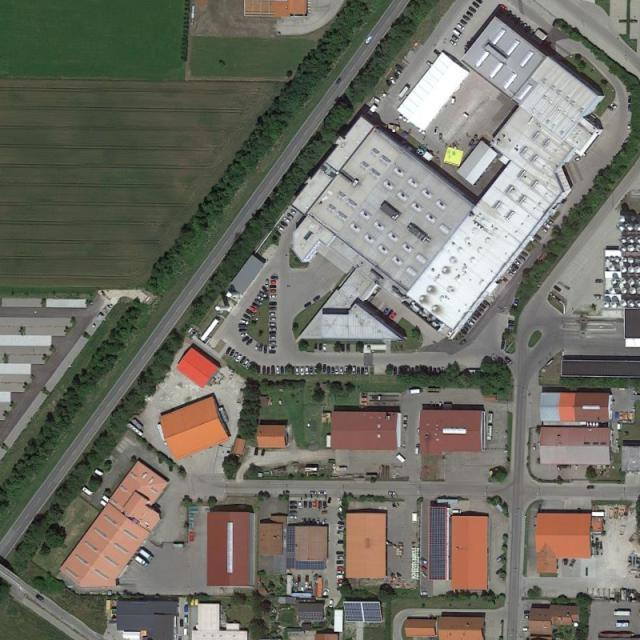vehicle: (201, 316, 222, 342), (157, 423, 168, 446), (134, 555, 150, 569), (138, 548, 154, 562), (218, 406, 230, 423), (81, 486, 94, 497), (495, 553, 506, 563), (94, 469, 106, 478), (452, 29, 464, 38), (364, 35, 374, 45), (36, 594, 46, 603), (609, 102, 620, 110), (246, 309, 255, 318), (505, 356, 514, 365), (506, 270, 516, 278), (419, 557, 429, 565), (258, 290, 268, 298), (456, 23, 466, 31), (235, 354, 243, 363), (420, 570, 428, 579), (420, 565, 429, 573), (553, 285, 562, 293), (468, 6, 477, 14), (471, 1, 480, 9), (256, 294, 265, 302), (254, 298, 263, 306), (462, 14, 471, 22), (395, 64, 404, 72), (240, 355, 247, 365), (242, 313, 252, 320), (463, 323, 473, 330), (242, 359, 250, 367), (246, 362, 254, 370), (337, 513, 345, 521), (477, 306, 485, 314), (534, 233, 542, 241), (334, 78, 342, 86), (262, 286, 270, 294), (426, 60, 434, 68), (546, 218, 554, 226), (540, 226, 548, 234), (452, 34, 460, 42), (434, 49, 442, 57), (509, 267, 518, 274), (251, 302, 260, 309), (543, 222, 552, 229), (460, 19, 469, 26), (372, 96, 381, 103), (184, 626, 190, 636), (300, 366, 306, 376), (240, 318, 250, 324), (415, 444, 421, 454), (226, 347, 233, 355), (242, 335, 250, 342), (246, 338, 253, 346), (323, 589, 330, 597), (461, 329, 469, 336), (469, 316, 477, 323), (471, 313, 479, 320), (474, 310, 482, 317), (511, 263, 519, 270), (518, 255, 526, 262), (521, 251, 529, 258), (496, 568, 504, 575), (466, 11, 474, 18), (450, 39, 458, 46), (482, 300, 491, 306), (280, 222, 289, 228), (390, 76, 396, 85), (259, 342, 264, 352), (184, 614, 189, 624), (390, 313, 397, 320), (480, 302, 487, 309), (514, 259, 521, 266), (395, 69, 402, 76), (233, 351, 239, 359), (230, 349, 236, 357), (338, 498, 344, 506), (338, 505, 344, 513), (250, 306, 258, 312), (392, 502, 398, 510), (277, 226, 285, 232), (314, 294, 320, 302), (304, 302, 312, 308), (606, 105, 614, 111), (255, 342, 260, 351), (382, 308, 389, 314), (467, 320, 474, 326), (287, 213, 294, 219), (284, 217, 291, 223), (310, 366, 314, 376), (346, 344, 350, 354), (322, 343, 327, 351), (241, 333, 249, 338), (254, 447, 259, 455), (338, 566, 346, 571), (313, 500, 318, 508), (514, 298, 518, 308), (394, 366, 398, 376), (389, 491, 397, 496), (452, 510, 462, 514), (266, 279, 270, 289), (386, 79, 391, 87), (276, 366, 280, 375), (291, 366, 295, 375), (296, 366, 300, 375), (306, 366, 310, 375), (323, 364, 327, 373), (327, 366, 331, 375), (269, 302, 278, 306), (269, 306, 278, 310), (269, 327, 278, 331), (337, 531, 346, 535), (357, 366, 361, 375), (352, 366, 356, 375), (524, 610, 533, 614), (269, 294, 278, 298), (387, 310, 393, 316), (312, 519, 317, 526), (322, 511, 329, 516), (290, 209, 297, 214), (267, 367, 271, 375), (272, 366, 276, 374), (281, 366, 285, 374), (269, 350, 277, 354), (269, 341, 277, 345), (270, 346, 278, 350), (240, 328, 248, 332), (336, 561, 344, 565), (330, 600, 334, 608), (185, 605, 189, 613), (180, 619, 184, 627), (338, 526, 346, 530), (317, 518, 321, 526), (307, 518, 311, 526), (290, 511, 298, 515), (290, 506, 298, 510), (290, 501, 298, 505), (318, 502, 322, 510), (323, 502, 327, 510), (361, 367, 365, 375), (523, 627, 531, 631), (628, 122, 632, 130), (365, 366, 368, 376), (394, 73, 399, 79), (574, 158, 580, 163), (587, 486, 594, 490), (332, 367, 336, 374), (314, 342, 318, 349), (268, 312, 275, 316), (270, 331, 277, 335), (262, 449, 266, 456), (337, 551, 344, 555), (298, 575, 302, 582), (306, 575, 310, 582), (342, 344, 346, 351), (596, 279, 603, 283), (628, 96, 632, 103), (322, 519, 326, 526), (263, 366, 266, 375), (268, 323, 277, 326), (239, 325, 248, 328), (264, 345, 267, 354), (318, 491, 327, 494), (336, 366, 339, 374), (341, 367, 344, 375), (319, 343, 322, 351), (269, 318, 277, 321), (337, 571, 345, 574), (337, 576, 345, 579), (310, 582, 313, 590), (302, 584, 305, 592), (338, 522, 346, 525), (304, 518, 307, 526), (290, 516, 298, 519), (305, 502, 308, 510), (328, 498, 332, 504), (310, 491, 318, 494), (594, 295, 602, 298), (270, 285, 278, 288), (271, 276, 279, 279), (315, 367, 318, 374), (338, 556, 345, 559), (299, 502, 302, 509), (309, 502, 312, 509), (533, 444, 536, 451), (525, 616, 532, 619), (421, 592, 428, 595), (269, 290, 276, 293), (270, 280, 277, 283), (270, 336, 276, 339), (338, 541, 344, 544), (629, 105, 632, 111), (178, 636, 182, 640), (337, 584, 343, 586)
